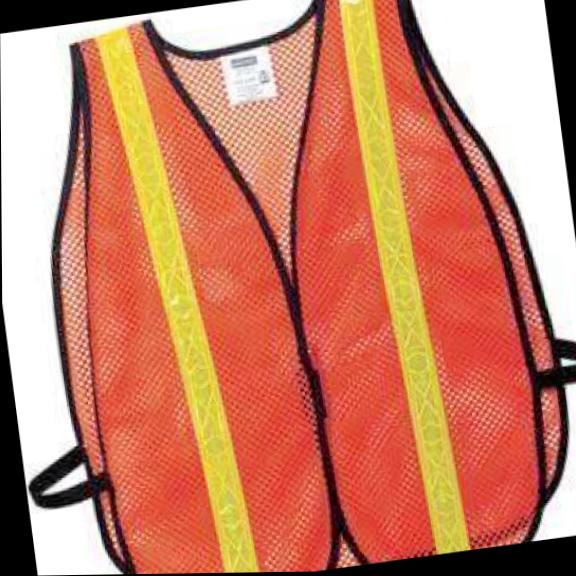safety_vest: (11, 0, 576, 576)
